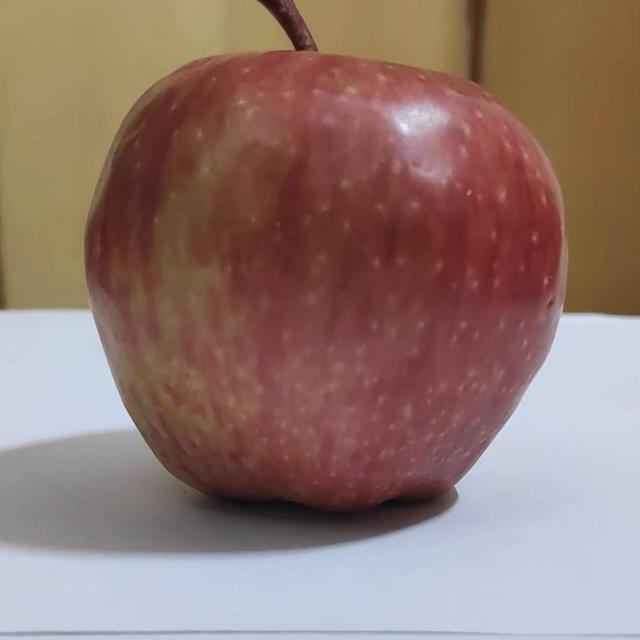Apple: (85, 51, 566, 510)
